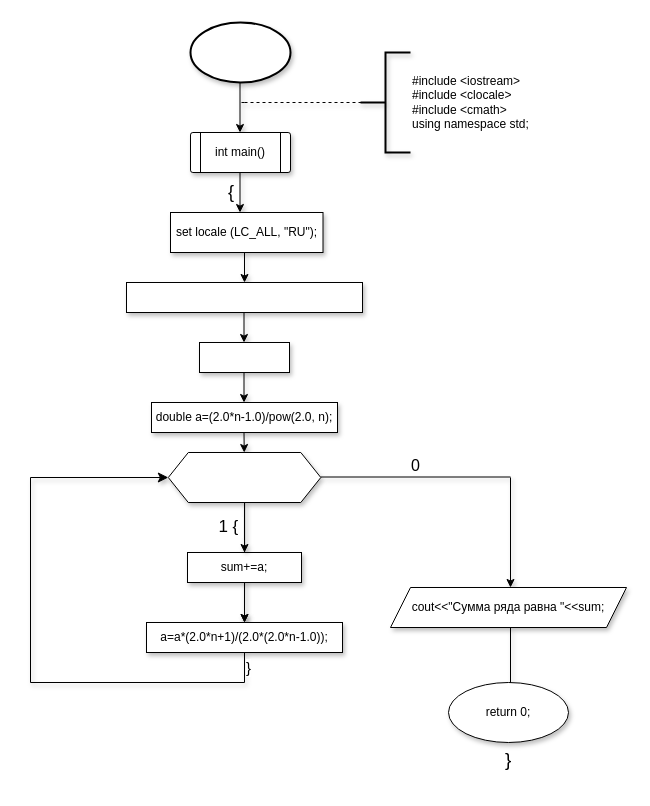
Some shapes in this 650 by 806 pixel diagram are drawn without their labels. The shapes that lost their labels are listed below. From the top down, each one's centre as x and y in pixels, then its label:
At pixel 241 53: "Начало".
At pixel 245 299: "double e=pow(10, -4), sum=0.0;".
At pixel 245 359: "int n=1;".
At pixel 245 479: "for(a;fabs(a)>=e;n++)".
